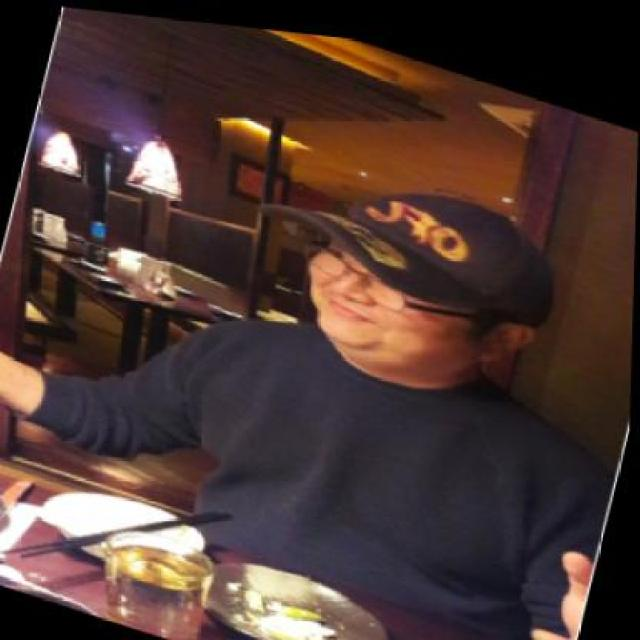hat: (258, 132, 584, 333)
